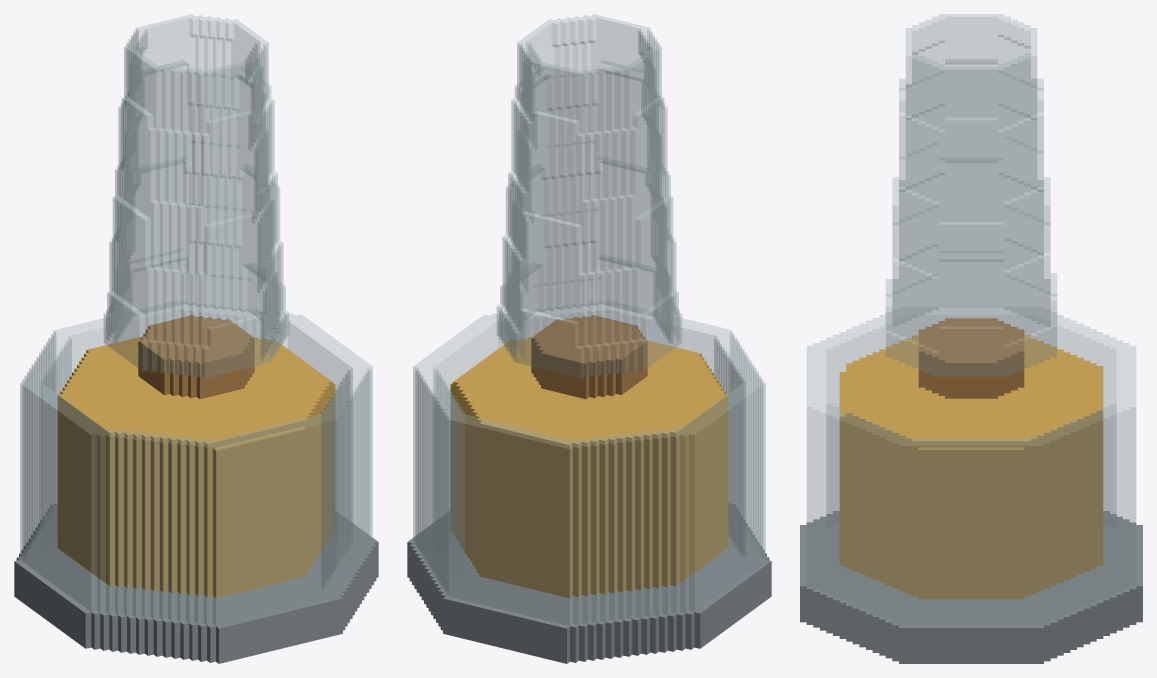
File: oil_lamp.glb
3 views of the same model, side by side, from view 1: azimuth 30°, elevation 25°; view 2: azimuth 150°, elevation 25°; view 3: azimuth 270°, elevation 25° (orthographic).
Visible parts, largest first — view 1: reservoir:reservoir, fuel_fill:fuel_fill, chimney:chimney, base:base, burner:burner; view 2: reservoir:reservoir, fuel_fill:fuel_fill, chimney:chimney, base:base, burner:burner; view 3: reservoir:reservoir, fuel_fill:fuel_fill, chimney:chimney, base:base, burner:burner.
Part boxes in pixels (x1=…): reservoir:reservoir: x1=20, y1=304, x2=372, y2=625; fuel_fill:fuel_fill: x1=57, y1=336, x2=335, y2=598; chimney:chimney: x1=104, y1=14, x2=288, y2=378; base:base: x1=14, y1=504, x2=378, y2=663; burner:burner: x1=138, y1=315, x2=254, y2=399; reservoir:reservoir: x1=413, y1=304, x2=765, y2=625; fuel_fill:fuel_fill: x1=450, y1=337, x2=728, y2=598; chimney:chimney: x1=497, y1=14, x2=681, y2=378; base:base: x1=407, y1=504, x2=771, y2=663; burner:burner: x1=531, y1=315, x2=647, y2=399; reservoir:reservoir: x1=807, y1=307, x2=1135, y2=624; fuel_fill:fuel_fill: x1=839, y1=335, x2=1103, y2=599; chimney:chimney: x1=885, y1=14, x2=1057, y2=376; base:base: x1=800, y1=511, x2=1142, y2=663; burner:burner: x1=918, y1=318, x2=1024, y2=398.
Size of the model in its own units: 0.104 by 0.184 by 0.104.
